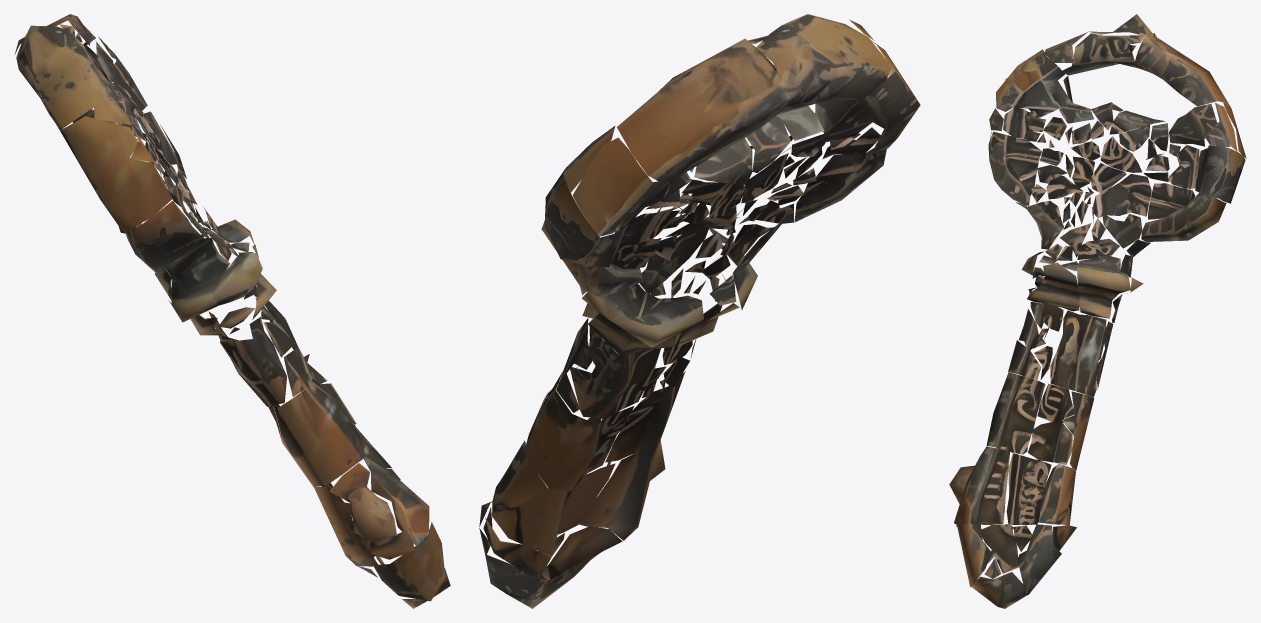
File: prop_vaelor_key_LOD2.glb
3 renders of one model, left to right at view 1: azimuth 30°, elevation 25°; view 2: azimuth 150°, elevation 25°; view 3: azimuth 270°, elevation 25°, orthographic. The views are drawn at different scales.
Parts seen in each view (by area): view 1: tripo_node_fc8d93ac-b99c-4fb0-929b-ac9bd457dcb8; view 2: tripo_node_fc8d93ac-b99c-4fb0-929b-ac9bd457dcb8; view 3: tripo_node_fc8d93ac-b99c-4fb0-929b-ac9bd457dcb8.
Part boxes in pixels (x1,y1,x2,y2): tripo_node_fc8d93ac-b99c-4fb0-929b-ac9bd457dcb8: (14, 14, 450, 608); tripo_node_fc8d93ac-b99c-4fb0-929b-ac9bd457dcb8: (479, 14, 920, 608); tripo_node_fc8d93ac-b99c-4fb0-929b-ac9bd457dcb8: (949, 14, 1246, 608).
Bounding box in the file's own units: 0.6316 × 1.01 × 0.5702.
1 material, 1 textured.
